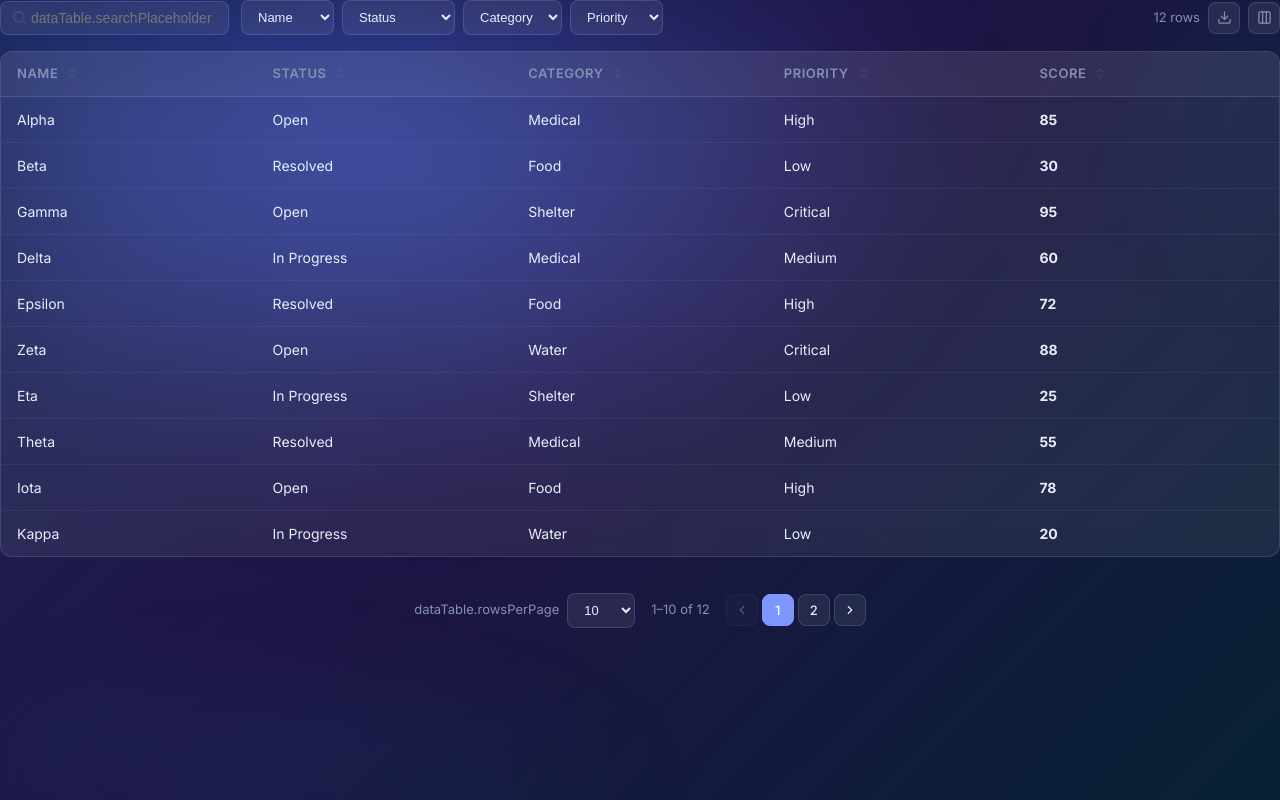
Scenario: DataTable › Pagination › changes page size and hides pagination
Select "25" in the dropdown named "Rows per page": (601,610) 567,592 -> 635,628
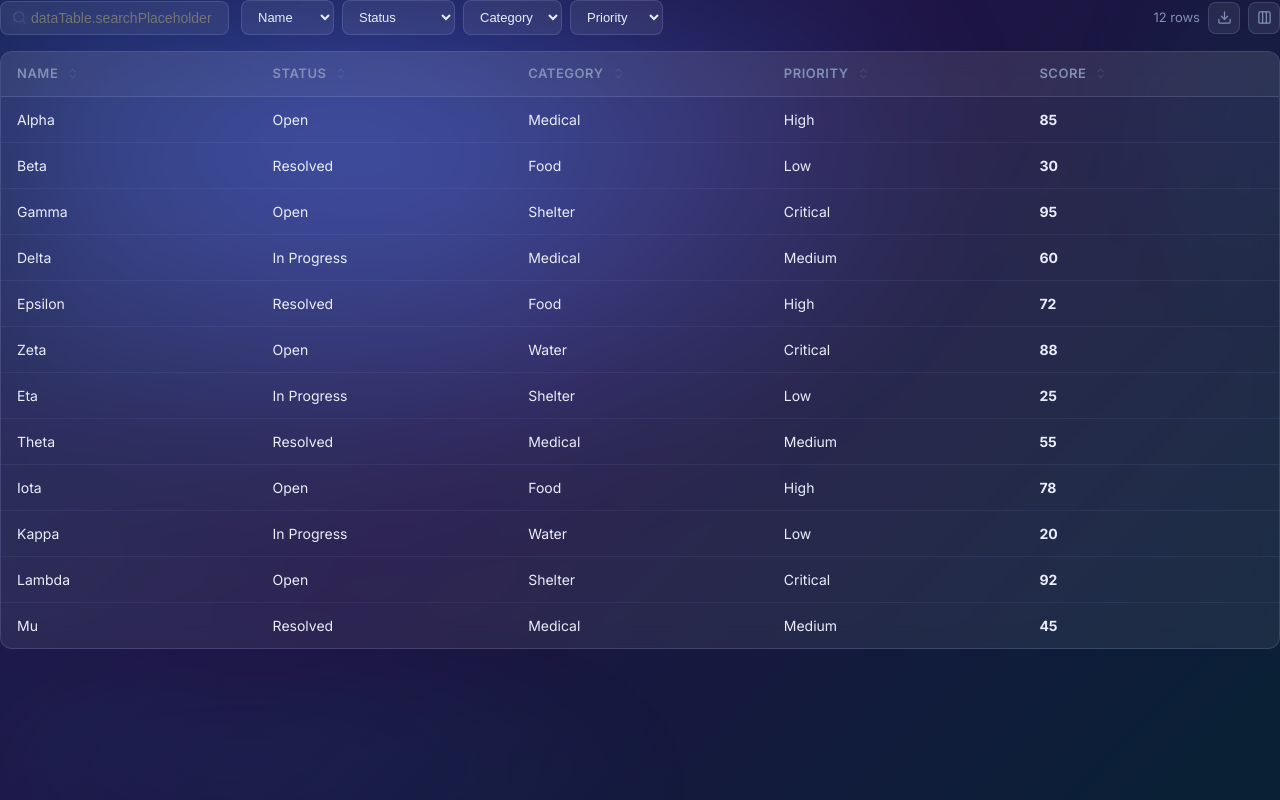
Expected: the element with class "dt-pagination" is gone
